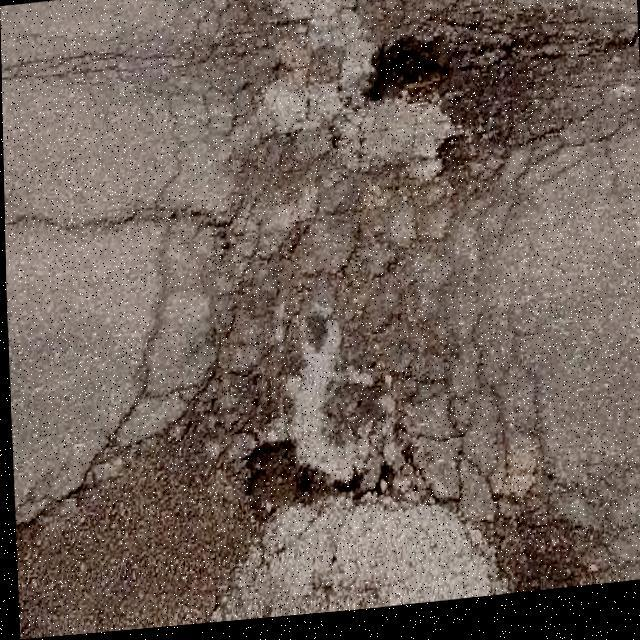pothole: (238, 433, 362, 536), (359, 32, 465, 124)
